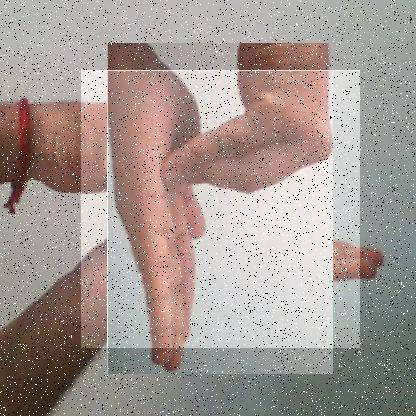Z: (81, 70, 361, 349)
